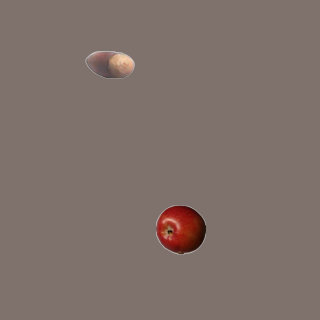Apple Braeburn: (155, 204, 205, 254)
Hazelnut: (84, 39, 134, 89)
